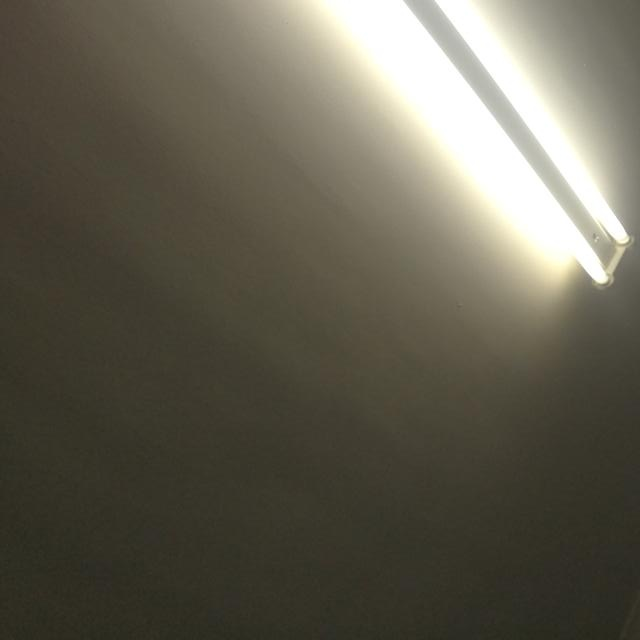fluorescent tube: (161, 0, 640, 319)
